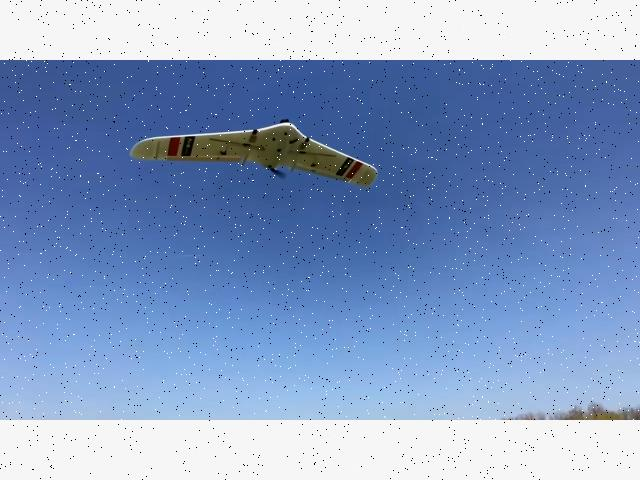Anti-Drone: (128, 118, 378, 187)
